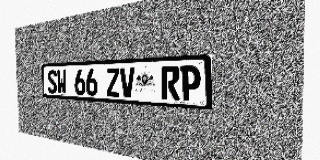6: (86, 68, 98, 96), (74, 69, 86, 95)
P: (180, 65, 201, 101)
R: (161, 66, 180, 100)
S: (47, 70, 57, 94)
V: (120, 67, 135, 98)
W: (57, 69, 67, 94)
Z: (106, 68, 120, 97)
